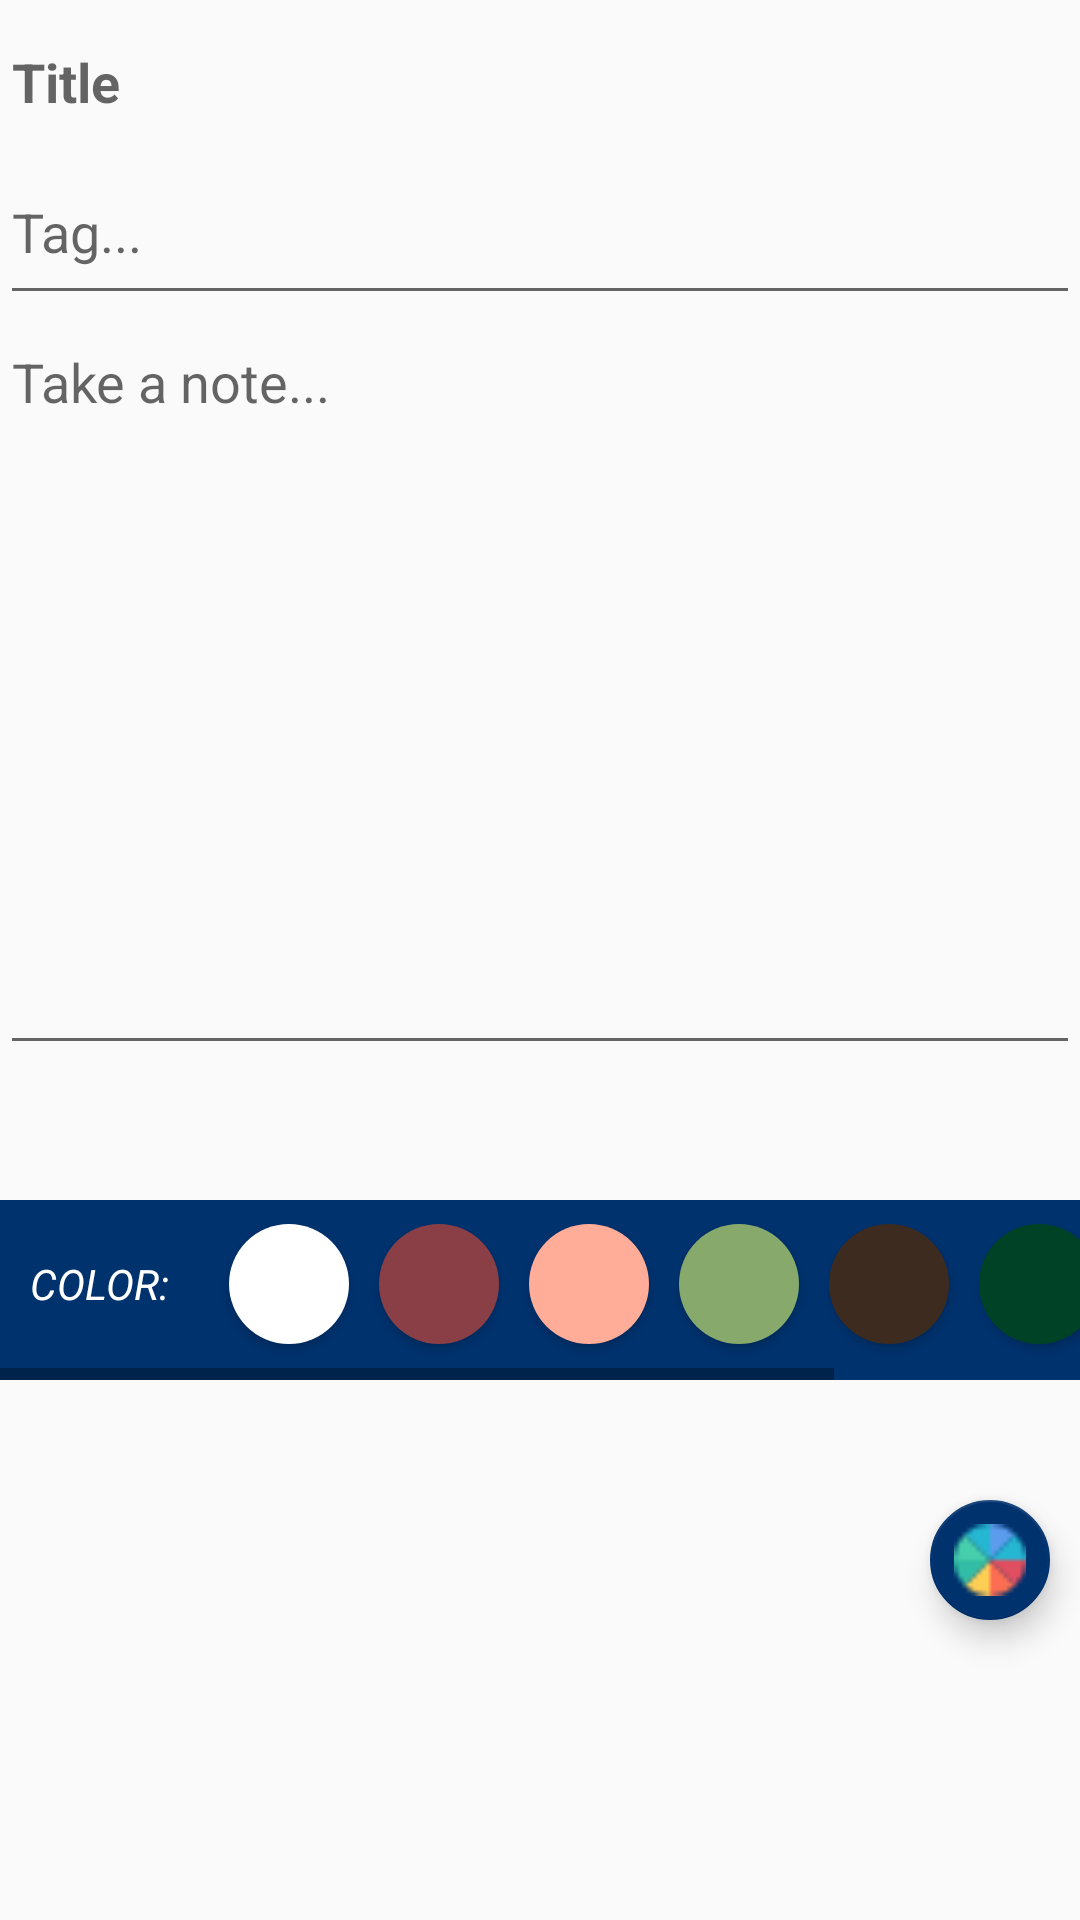

Icon bounding boxes for this 1080*1920 phone screenshot, format BBox(x1, y1, x2, y2):
pantone: BBox(930, 1500, 1050, 1620)
